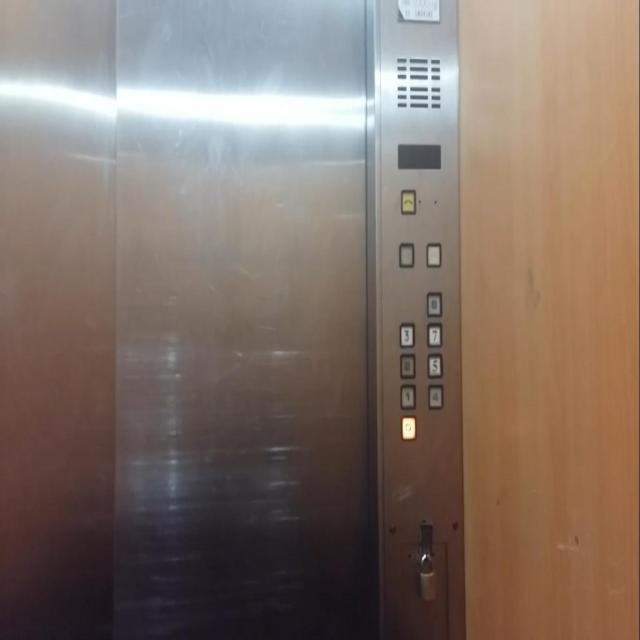1: (399, 382, 416, 408)
2: (399, 352, 415, 378)
3: (399, 321, 415, 347)
4: (427, 382, 444, 408)
5: (427, 352, 442, 376)
7: (427, 322, 442, 348)
8: (427, 290, 442, 317)
G: (400, 414, 416, 441)
call: (399, 188, 416, 215)
empty: (398, 241, 415, 268), (426, 240, 442, 268)
led: (398, 141, 442, 170)
